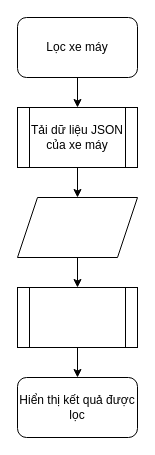
Image size: 155x455. Some labels were removed from this diagram. The centre of each missing label's shape, as x and y in pixels:
Chọn bộ lọc: point (77, 227)
Cập nhật bộ lọc lên URL: point (77, 317)
